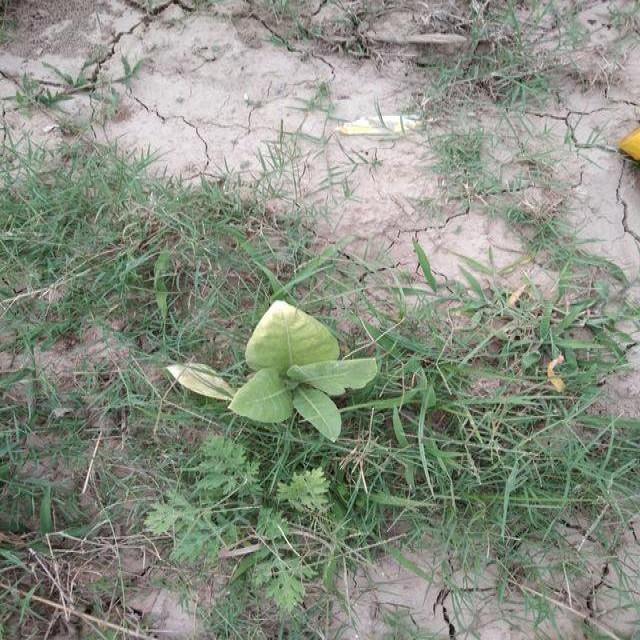crop: (163, 283, 390, 449)
